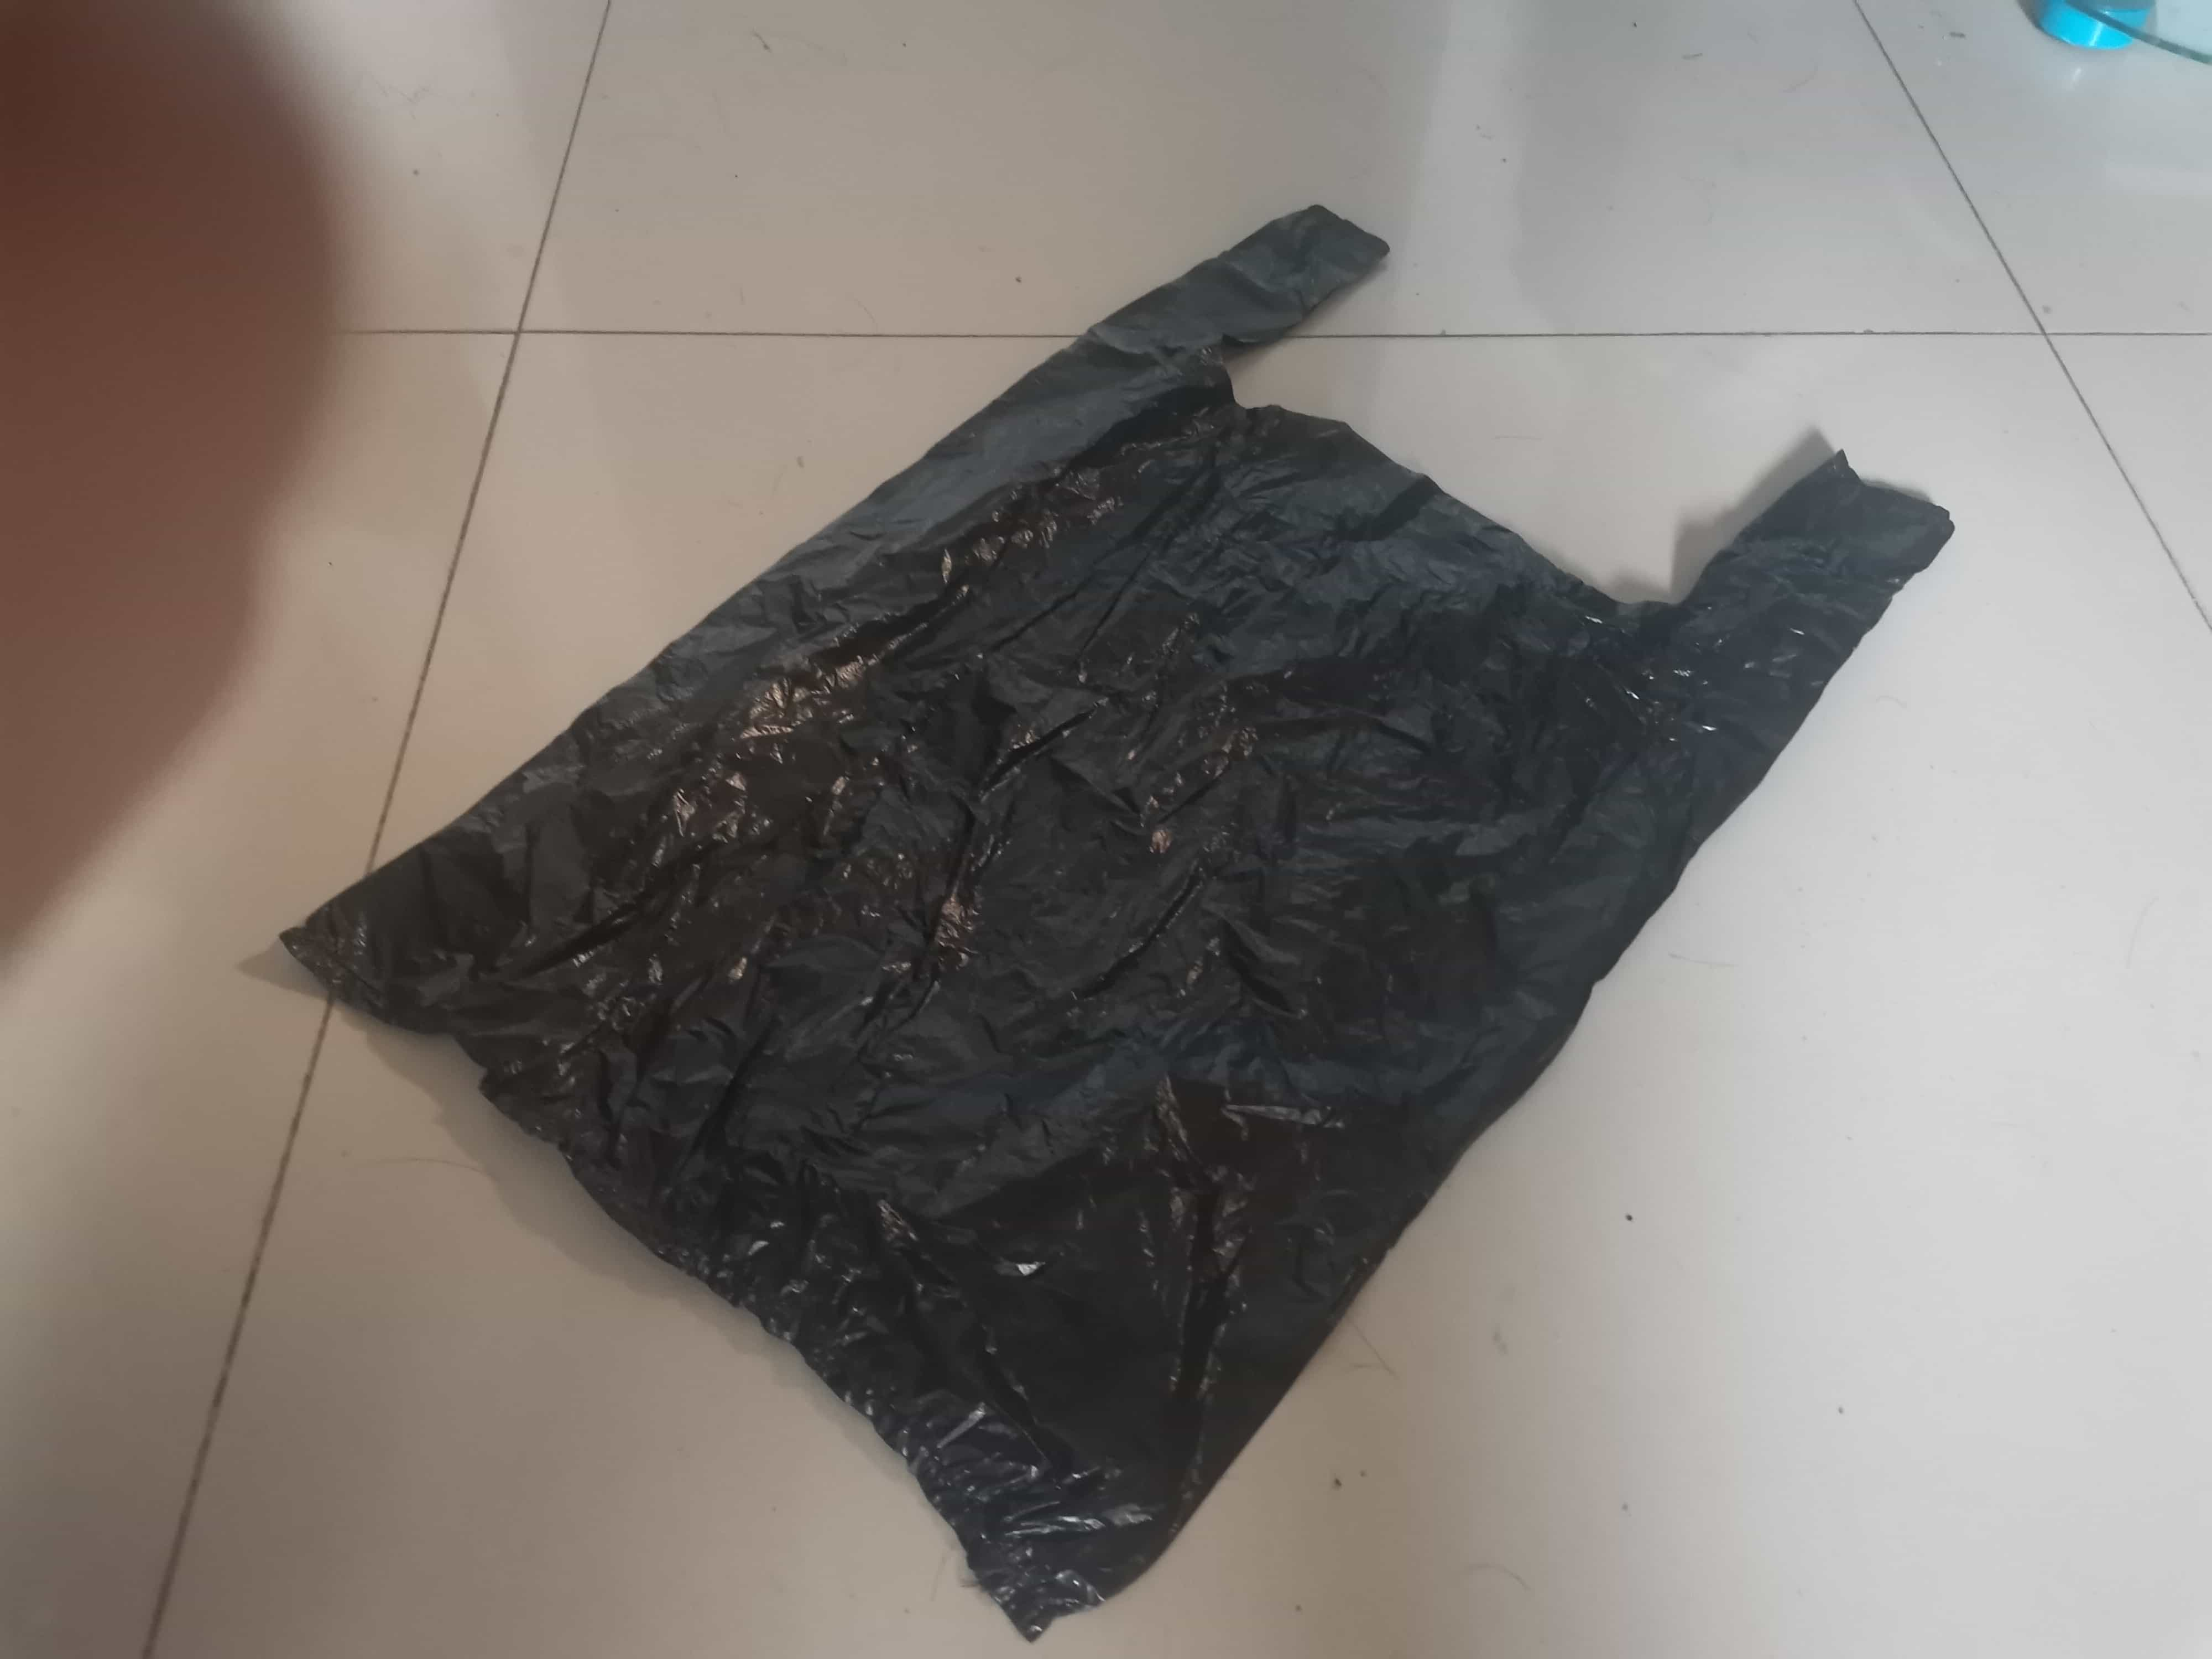plastic_bag: (263, 197, 1970, 1631)
